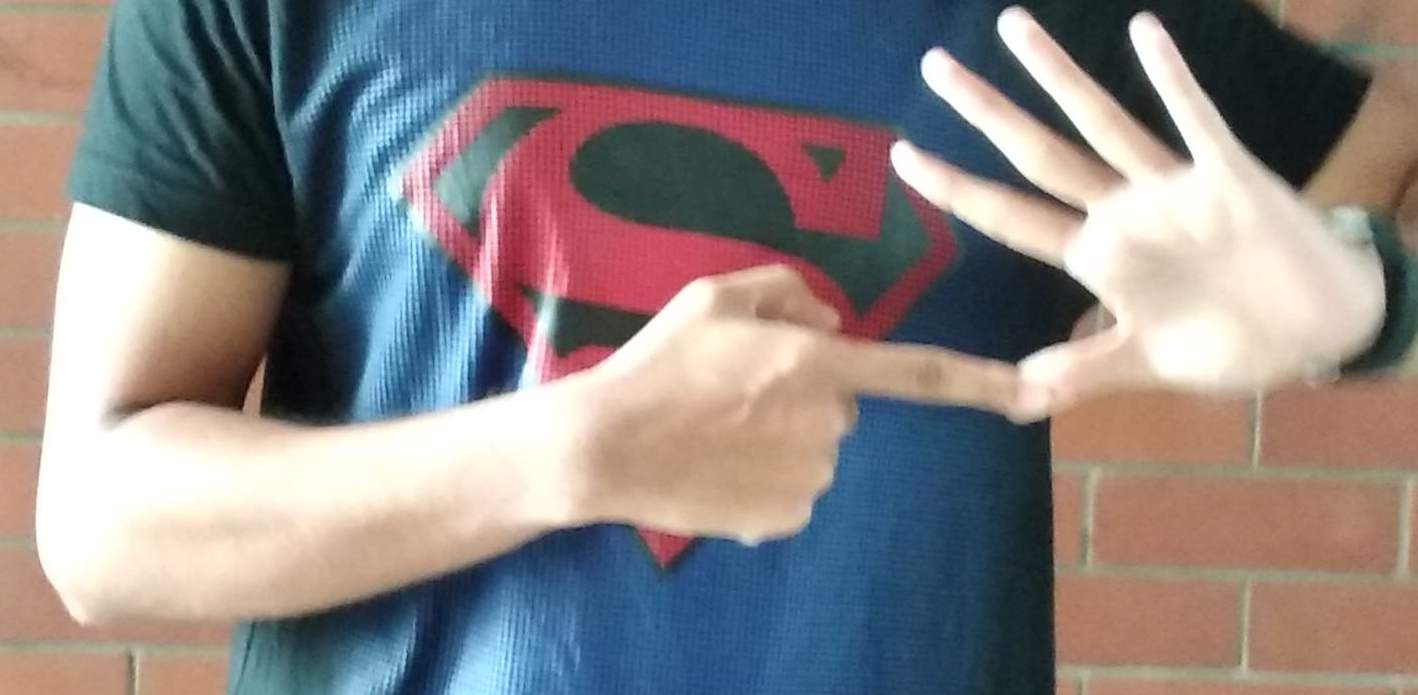a: (643, 30, 1255, 585)
